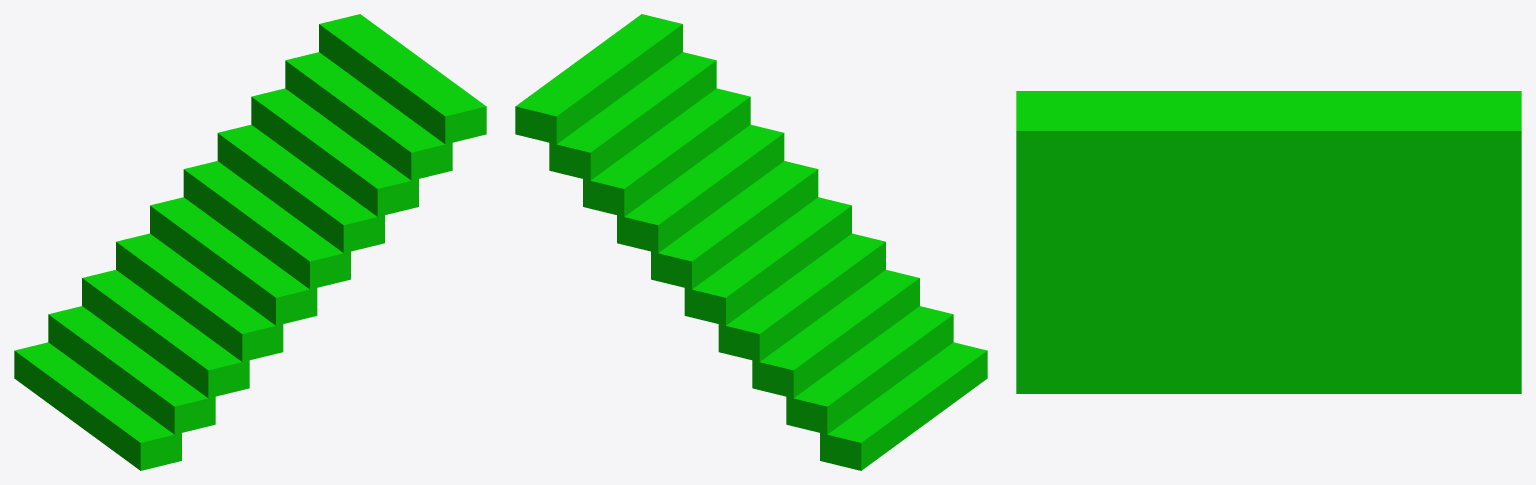
The model's file is SM_House_Staircase_02.fbx.
3 renders of one model, left to right at view 1: azimuth 30°, elevation 25°; view 2: azimuth 150°, elevation 25°; view 3: azimuth 270°, elevation 25°, orthographic. The views are drawn at different scales.
Parts seen in each view (by area): view 1: SM_House_Staircase_02; view 2: SM_House_Staircase_02; view 3: SM_House_Staircase_02.
Boxes of the visible parts, left/top/right/bottom form: SM_House_Staircase_02: left=14, top=14, right=486, bottom=470; SM_House_Staircase_02: left=515, top=14, right=987, bottom=470; SM_House_Staircase_02: left=1016, top=91, right=1521, bottom=393.
Bounding box in the file's own units: 240 × 152 × 186.
